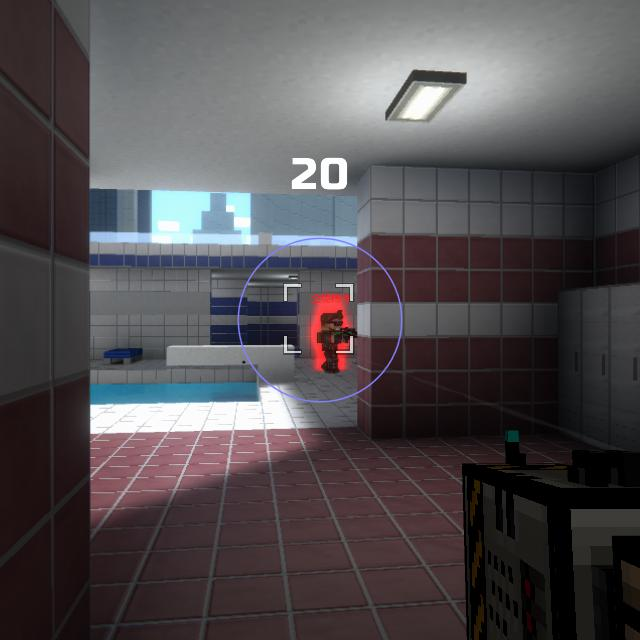Enemy: (317, 313, 348, 373)
